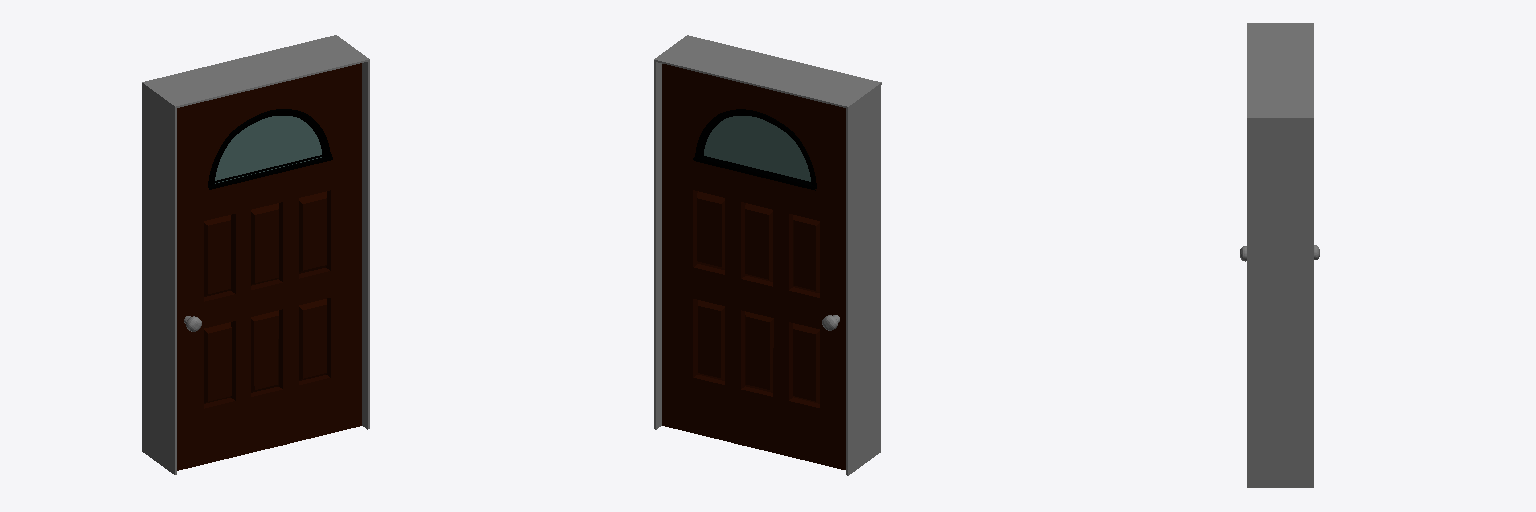
Rendered from frontDoorDark.obj.
3 views of the same model, side by side, from view 1: azimuth 30°, elevation 25°; view 2: azimuth 150°, elevation 25°; view 3: azimuth 270°, elevation 25° (orthographic).
Parts seen in each view (by area): view 1: PolyMesh_7.001, Cube_3.003, Cube_4.007, sweethome3d_window_pane.007, Cube_3_1.001, Extruded_Object_1_1.001, Extruded_Object_3_1.001; view 2: PolyMesh_7-mirror.001, Cube_3.003, Cube_4.007, sweethome3d_window_pane.007, Cube_3_1.001, Extruded_Object_1.002, Extruded_Object_3.001; view 3: Cube_3_1.001, Cube_4.007.
Boxes of the visible parts, <box> form: PolyMesh_7.001: <box>177,63,361,470</box>; Cube_3.003: <box>142,84,176,474</box>; Cube_4.007: <box>142,35,369,108</box>; sweethome3d_window_pane.007: <box>215,116,321,183</box>; Cube_3_1.001: <box>362,61,369,429</box>; Extruded_Object_1_1.001: <box>208,109,330,187</box>; Extruded_Object_3_1.001: <box>208,154,332,189</box>; PolyMesh_7-mirror.001: <box>662,64,845,469</box>; Cube_3.003: <box>846,84,880,475</box>; Cube_4.007: <box>654,35,881,108</box>; sweethome3d_window_pane.007: <box>704,116,810,181</box>; Cube_3_1.001: <box>654,62,661,429</box>; Extruded_Object_1.002: <box>695,109,816,188</box>; Extruded_Object_3.001: <box>693,156,815,190</box>; Cube_3_1.001: <box>1247,120,1313,487</box>; Cube_4.007: <box>1247,23,1313,119</box>.
Bounding box in the file's own units: 0.6653 × 1.21 × 0.2359.